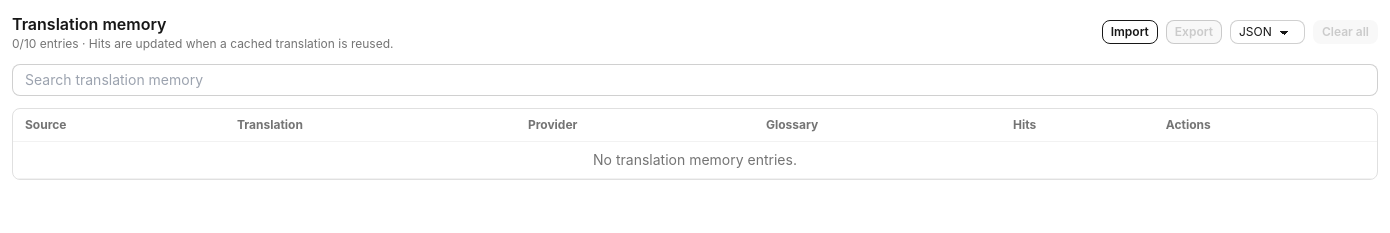
Scenario: TranslationMemoryPanel › imports a validated local file and reports picker or export failures
Click the button "Import": (1130, 32) [1102, 20, 1158, 44]
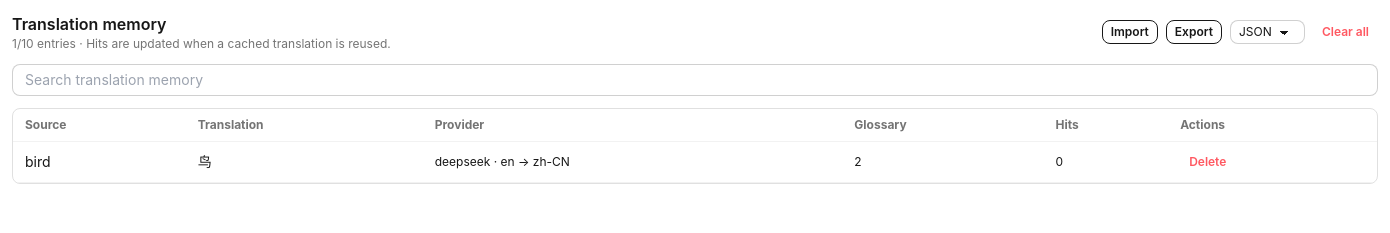
Now the text "bird" is shown, box [13, 142, 186, 182]
Click the button "Import": (1130, 32) [1102, 20, 1158, 44]
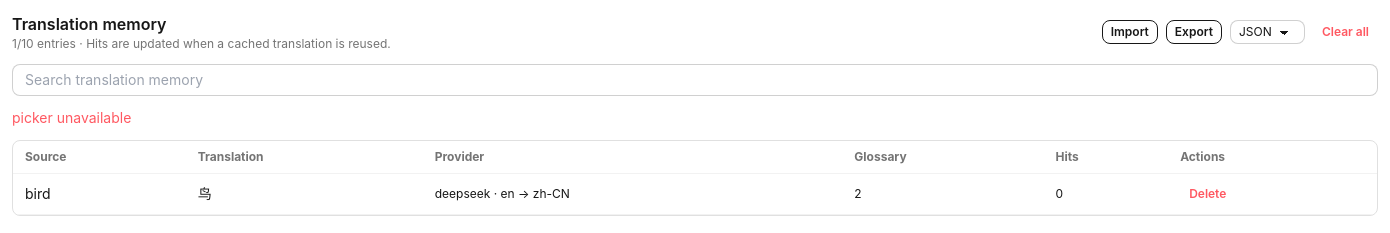
Now the text "picker unavailable" is shown, box [12, 109, 131, 126]
Click the button "Export": (1194, 32) [1166, 20, 1222, 44]
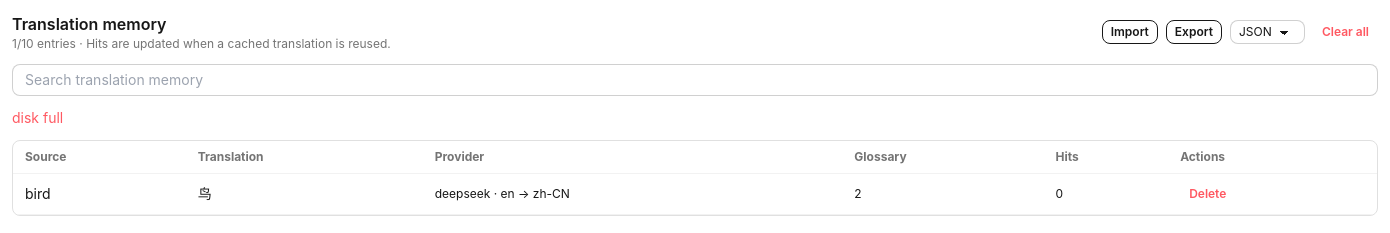
Now the text "disk full" is shown, box [12, 109, 63, 126]
